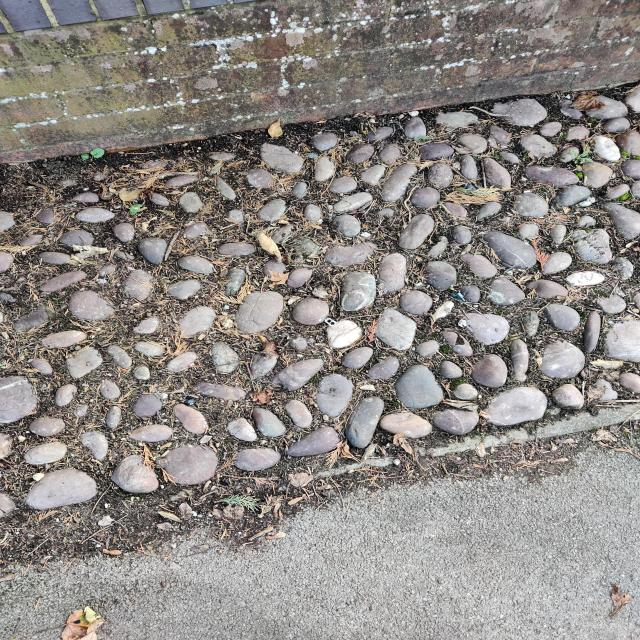litter: (217, 222, 239, 233), (323, 317, 340, 329), (186, 397, 195, 406)
